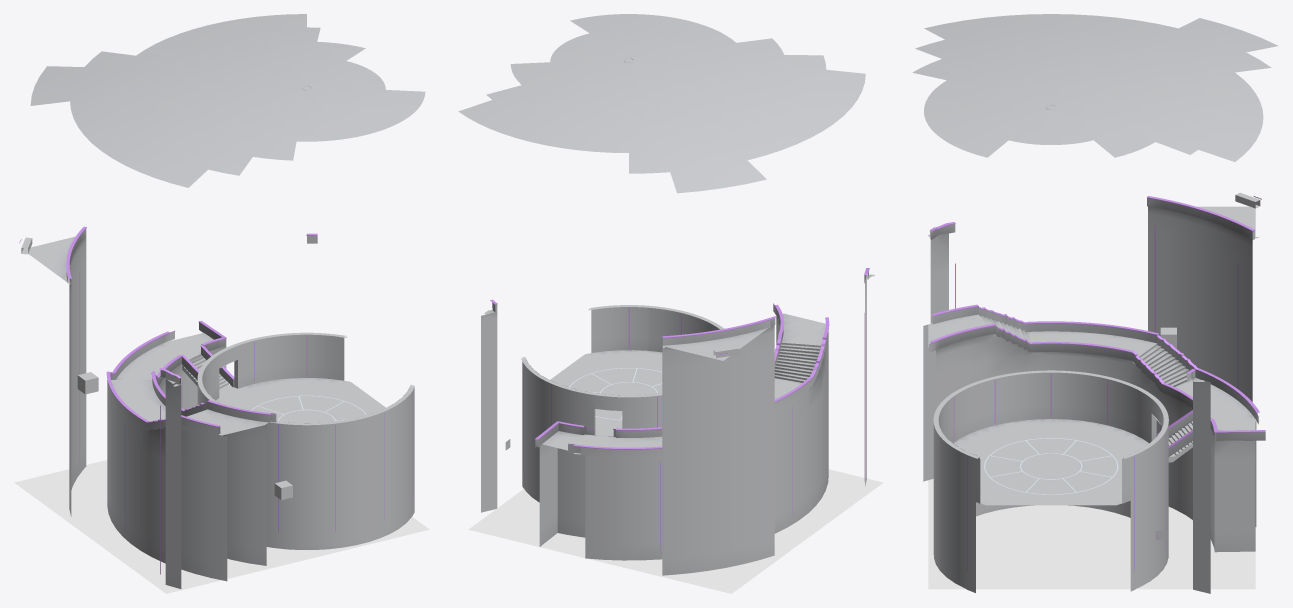
File: crypt_10_ae.glb
3 views of the same model, side by side, from view 1: azimuth 30°, elevation 25°; view 2: azimuth 150°, elevation 25°; view 3: azimuth 270°, elevation 25° (orthographic). The views are drawn at different scales.
Visible parts, largest first — view 1: crypt_10_ae; view 2: crypt_10_ae; view 3: crypt_10_ae.
Part boxes in pixels (x1,y1,x2,y2): crypt_10_ae: (14, 14, 429, 593); crypt_10_ae: (458, 14, 883, 593); crypt_10_ae: (912, 14, 1278, 593).
Bounding box in the file's own units: 35.94 × 48.27 × 35.85.
